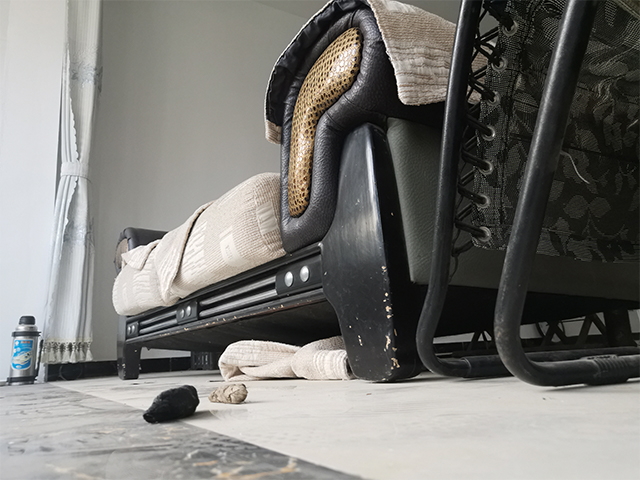curtain: (41, 1, 105, 366)
feces: (142, 383, 200, 425), (205, 382, 250, 405)
sofa: (109, 1, 483, 384)
